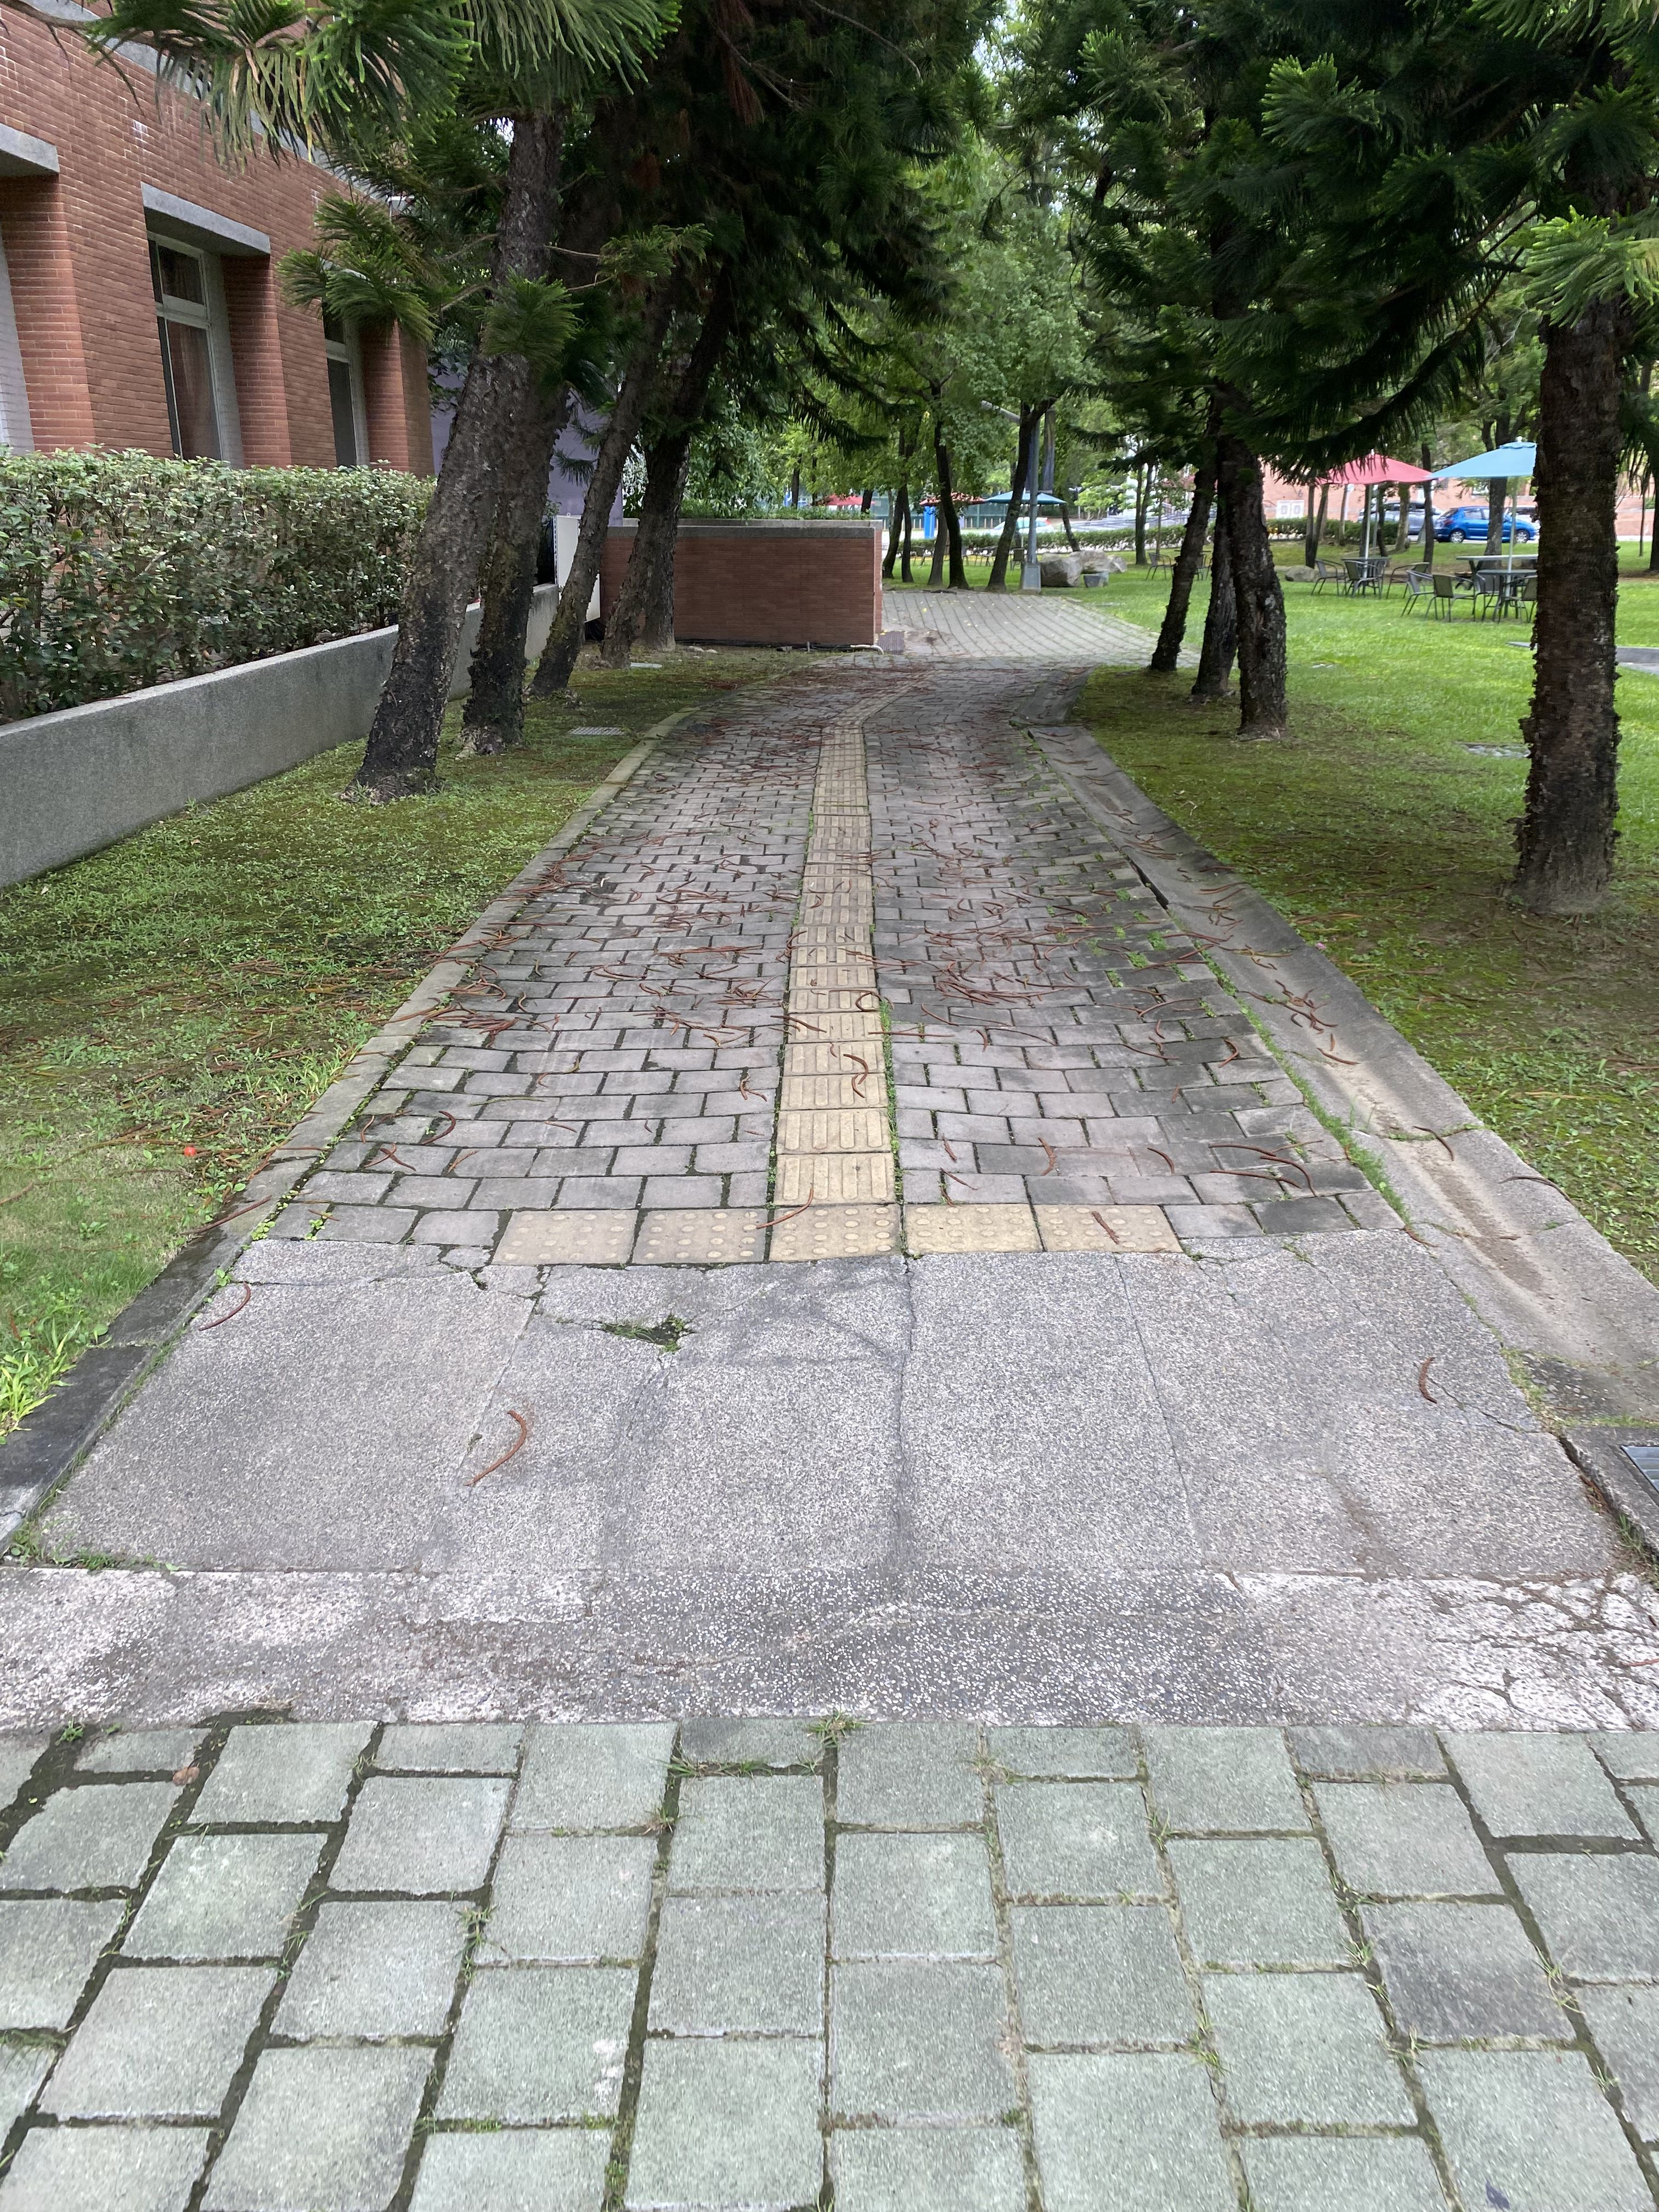sidewalk: (124, 456, 1647, 2212)
